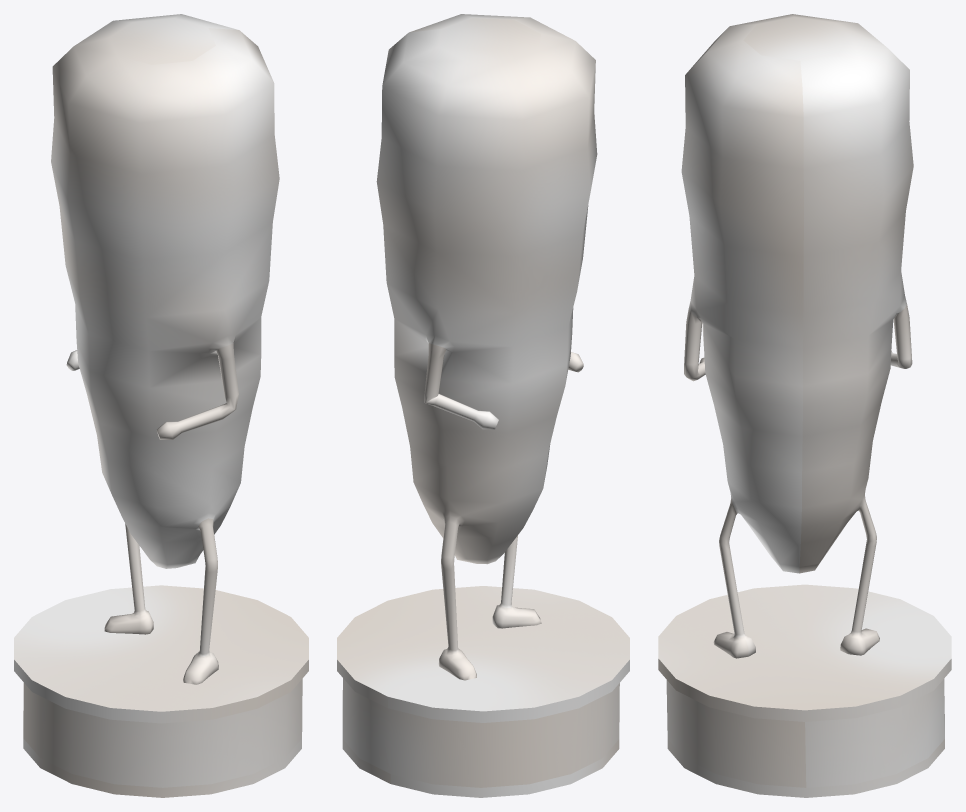
File: CarrotStatue_1.fbx
3 renders of one model, left to right at view 1: azimuth 30°, elevation 25°; view 2: azimuth 150°, elevation 25°; view 3: azimuth 270°, elevation 25°, orthographic.
Parts seen in each view (by area): view 1: grape body; view 2: grape body; view 3: grape body.
Part boxes in pixels (x1,y1,x2,y2): grape body: (14, 14, 308, 797); grape body: (337, 14, 629, 797); grape body: (658, 14, 951, 797).
Size of the model in its own units: 16.26 by 42.08 by 16.01.
Materials: 1 (1 with a texture image).
